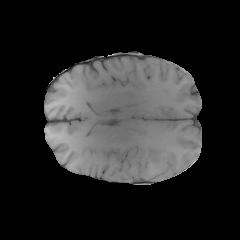glioma: (136, 143, 166, 166)
